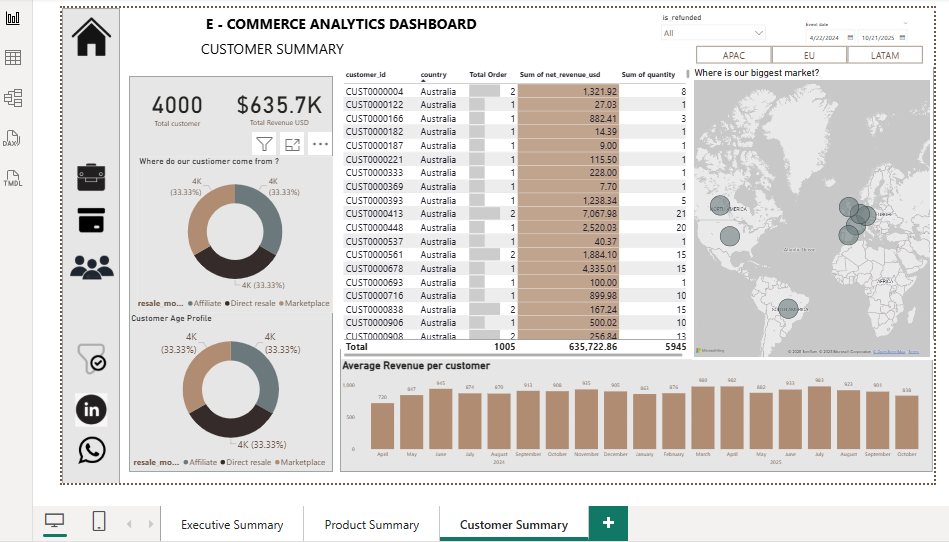

The dashboard page shown, as its layout file describes it:
{"tool":"powerbi","page":{"name":"Customer Summary","canvas":[1980,1080],"ordinal":2},"visuals":[{"type":"textbox","box":[295.2,7.1,731,85.7],"z":0},{"type":"textbox","box":[295.5,63.6,397.7,68.2],"z":1000},{"type":"slicer","fields":{"Values":["Events_updated.is_refunded"]},"box":[1352.4,7.1,257.1,85.7],"z":2000},{"type":"slicer","fields":{"Values":["Events_updated.event_date"]},"box":[1678.3,25.9,257,105.8],"z":3000},{"type":"shape","box":[0,0,131.1,1184.4],"z":4000},{"type":"shape","box":[151.2,153.5,462.8,900],"z":5000},{"type":"shape","box":[633.3,133.3,1347.6,619],"z":6000},{"type":"shape","box":[632.6,774.4,1346.5,279.1],"z":7000},{"type":"card","fields":{"Values":["Measure Table.Total customer"]},"box":[134.9,153.5,255.8,137.2],"z":8000},{"type":"card","fields":{"Values":["Measure Table.Total Revenue USD"]},"box":[375.6,155.6,237.8,135.6],"z":9000},{"type":"donutChart","title":"Where do our custiomer come from ?","fields":{"Y":["Measure Table.Total customer"],"Category":["Products_final__3.resale_model"]},"box":[169.6,337,445.7,356.5],"z":10000},{"type":"donutChart","title":"Customer Age Profile","fields":{"Y":["Measure Table.Total customer"],"Category":["Products_final__3.resale_model"]},"box":[151.2,693,462.8,360.5],"z":11000},{"type":"slicer","fields":{"Values":["Events_updated.region"]},"box":[1415.6,80,564.4,53.3],"z":12000},{"type":"tableEx","fields":{"Values":["Events_updated.customer_id","Events_updated.country","Measure Table.Total Order","Sum(Events_updated.net_revenue_usd)","Sum(Events_updated.quantity)"]},"box":[633.3,133.3,797.6,664.3],"z":13000},{"type":"columnChart","title":"Average Revenue per customer","fields":{"Y":["Measure Table.Average Revenue per customer"],"Category":["Events.event_date.Variation.Date Hierarchy.Year","Events.event_date.Variation.Date Hierarchy.Month"]},"box":[632.6,797.7,1346.5,255.8],"z":14000},{"type":"image","box":[0,0,134.8,130.4],"z":15000},{"type":"image","box":[23.9,315.2,82.6,139.1],"z":16000},{"type":"image","box":[26.1,406.5,82.6,150],"z":17000},{"type":"image","box":[13.3,515.6,108.9,148.9],"z":18000},{"type":"image","box":[21.7,752.2,87,91.3],"z":19000},{"type":"image","box":[26.1,837,82.6,154.3],"z":20000},{"type":"image","box":[13,930.4,108.7,150],"z":21000},{"type":"map","title":"Where is our biggest market?","fields":{"Category":["Customers_with_coords.country"],"Y":["Avg(Customers_with_coords.country_latitude)"],"X":["Avg(Customers_with_coords.country_longitude)"],"Size":["Measure Table.Final Revenue USD"]},"box":[1431.1,133.3,546.7,664.4],"z":22000}]}

Visuals, with their boxes on the page's 1980x1080 design canvas (x1, y1, x2, y2). These are canvas units, not pixel positions in the 949x542 screenshot, which may show the page scaled, cropped or inside an application window:
textbox: bbox=(295, 7, 1026, 93)
textbox: bbox=(296, 64, 693, 132)
slicer - Events_updated.is_refunded: bbox=(1352, 7, 1610, 93)
slicer - Events_updated.event_date: bbox=(1678, 26, 1935, 132)
shape: bbox=(0, 0, 131, 1184)
shape: bbox=(151, 154, 614, 1054)
shape: bbox=(633, 133, 1981, 752)
shape: bbox=(633, 774, 1979, 1054)
card - Measure Table.Total customer: bbox=(135, 154, 391, 291)
card - Measure Table.Total Revenue USD: bbox=(376, 156, 613, 291)
"Where do our custiomer come from ?" donutChart: bbox=(170, 337, 615, 694)
"Customer Age Profile" donutChart: bbox=(151, 693, 614, 1054)
slicer - Events_updated.region: bbox=(1416, 80, 1980, 133)
tableEx - Events_updated.customer_id x Events_updated.country: bbox=(633, 133, 1431, 798)
"Average Revenue per customer" columnChart: bbox=(633, 798, 1979, 1054)
image: bbox=(0, 0, 135, 130)
image: bbox=(24, 315, 106, 454)
image: bbox=(26, 406, 109, 556)
image: bbox=(13, 516, 122, 664)
image: bbox=(22, 752, 109, 844)
image: bbox=(26, 837, 109, 991)
image: bbox=(13, 930, 122, 1080)
"Where is our biggest market?" map: bbox=(1431, 133, 1978, 798)
